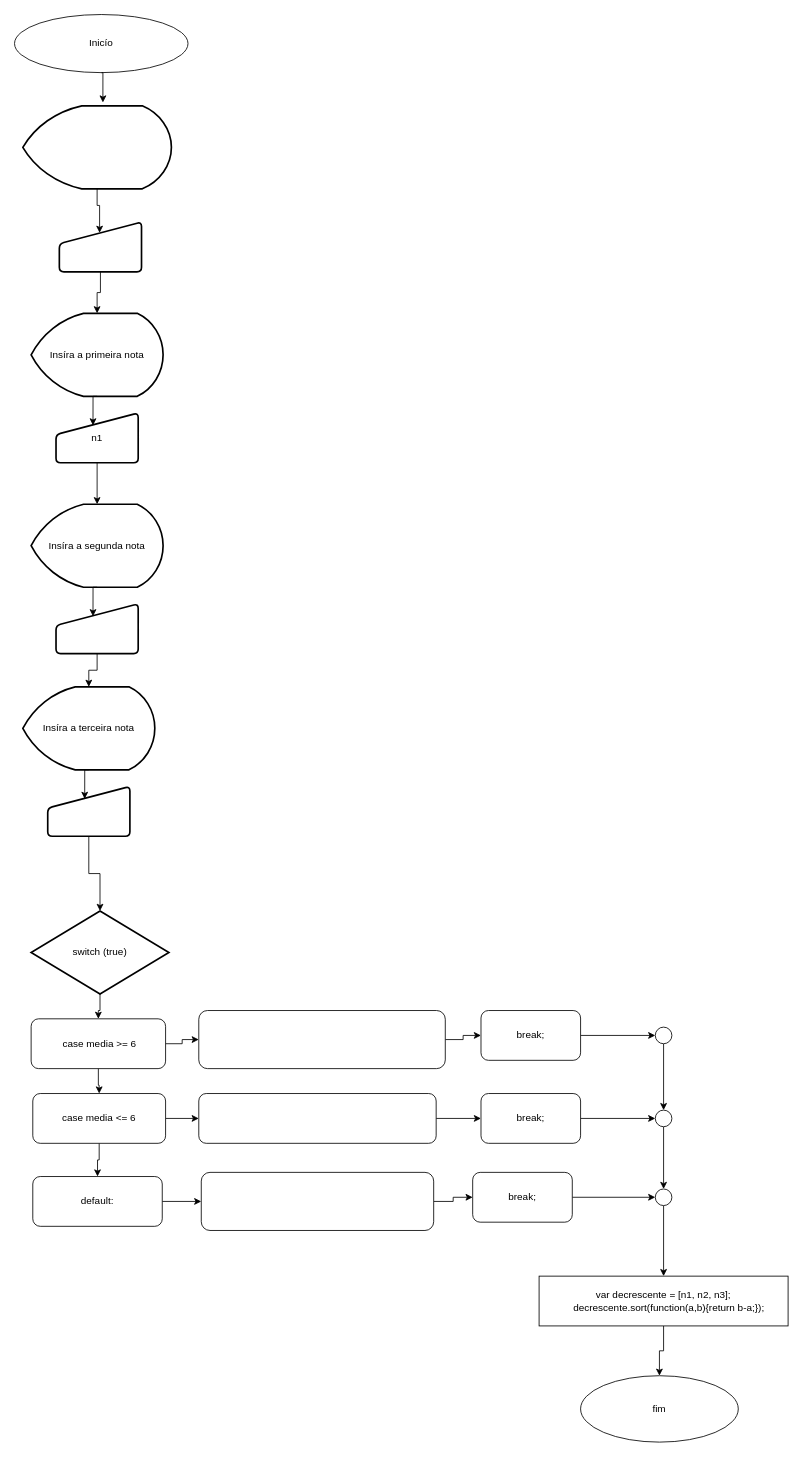
The diagram is 803 pixels wide and 1457 high, and some of its shapes have lost their labels. The centre of each missing label's shape, as x and y in pixels:
aluno: point 100,246
Insíra o nome do aluno: point 97,147
n2: point 97,628
n3: point 88,811
retorno = "O aluno " + aluno +" foi aprovado com média " + media: point 321,1039
retorno = "O aluno " + aluno +" foi reprovado com média " + media: point 317,1118
retorno= "Tente novamente": point 317,1201
